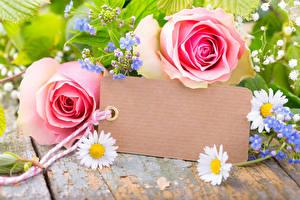chamomile: (253, 94, 283, 122), (82, 137, 113, 163), (201, 155, 224, 179)
